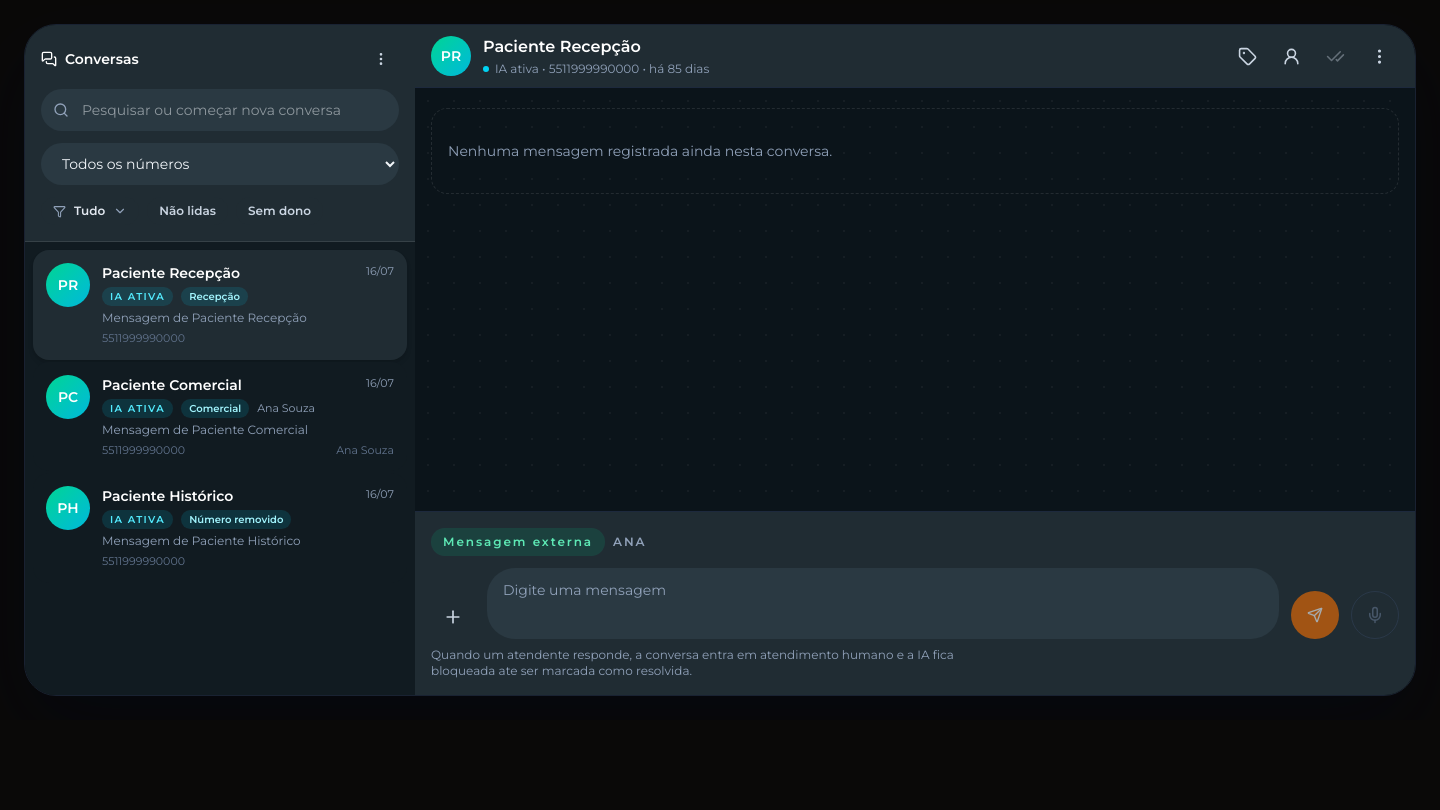
Scenario: TenantConversationsPage — caixa unificada › busca encontra a conversa por quem escreveu a última mensagem
The image size is (1440, 810).
Type "Vitoria" into the field with placeholder "Pesquisar ou começar nova conversa" at (220, 110), box x1=41 y1=89 x2=399 y2=131
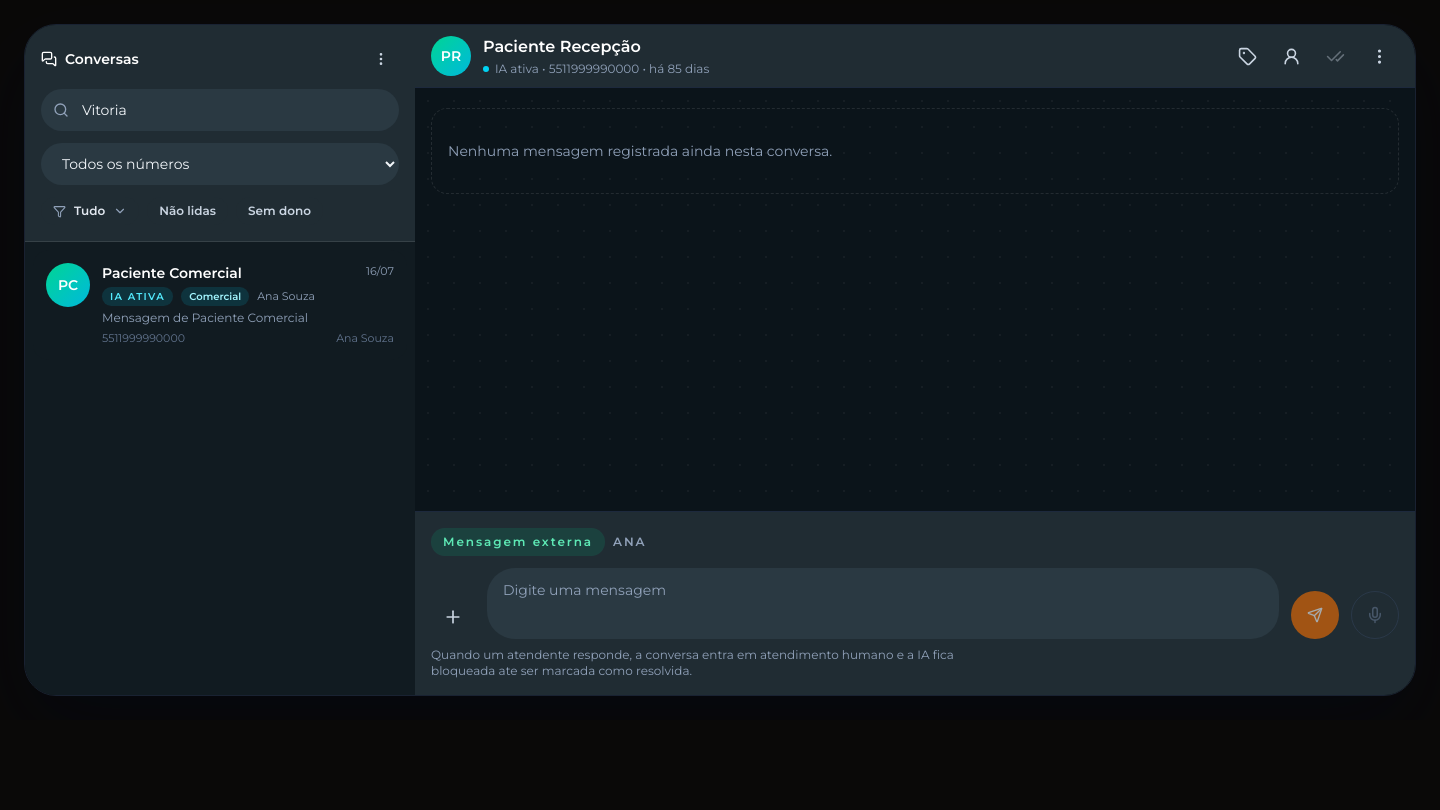
Expected: the text "Paciente Comercial" is shown, x1=102 y1=263 x2=242 y2=283
Now the button "Paciente Histórico" is gone
